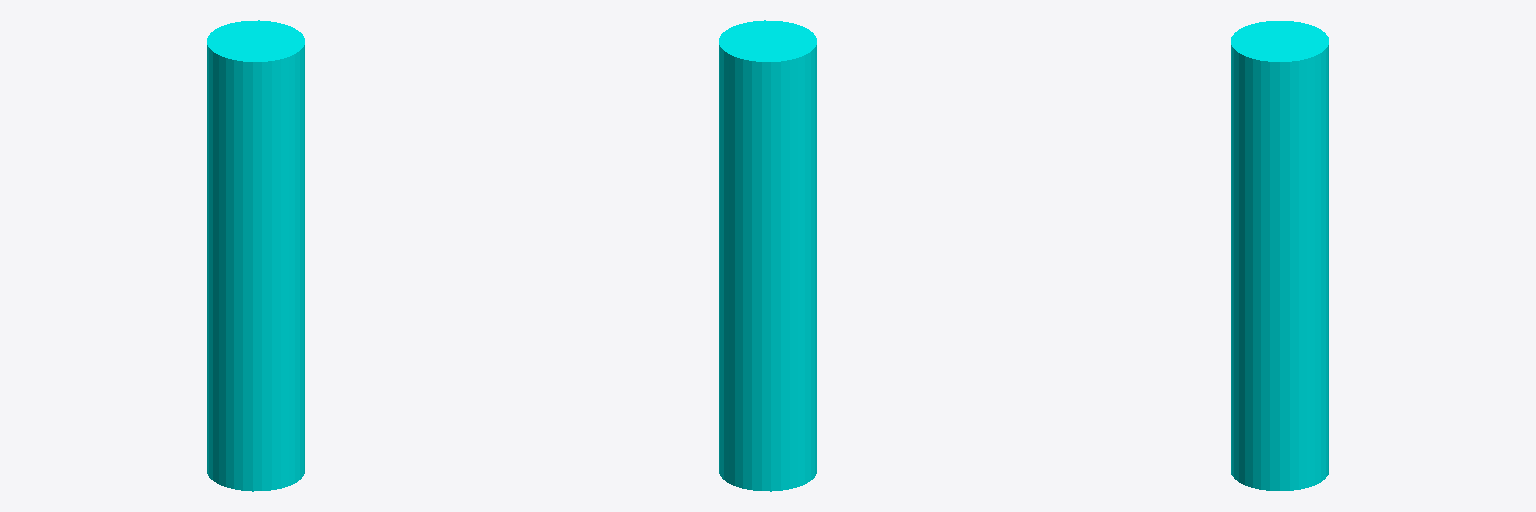
The robot description file, URDF, robot "spatula-base.urdf":
<?xml version="0.0" ?>
<robot name="spatula-base.urdf">
  <material name="DarkGrey">
    <color rgba="0.2 0.2 0.2 1.0"/>
  </material>
  <material name="LightGrey">
    <color rgba="0.8 0.8 0.8 1.0"/>
  </material>
  <material name="Blue">
    <color rgba="0.0 1.0 1.0 1.0"/>
  </material>

  <link name="baseLink">
    <contact>
      <lateral_friction value="1.0"/>
      <rolling_friction value="0.0001"/>
      <inertia_scaling value="3.0"/>
    </contact>
    <inertial>
      <origin rpy="0 0 0" xyz="0 0 0"/>
       <mass value=".1"/>
       <inertia ixx="1" ixy="0" ixz="0" iyy="1" iyz="0" izz="1"/>
    </inertial>
    <visual>
      <origin rpy="0 0 0" xyz="0 0 0"/>
      <geometry>
        <mesh filename="suction/base.obj" scale="0.001 0.001 0.001"/>
      </geometry>
      <material name="DarkGrey"/>
    </visual>
    <visual>
      <origin rpy="0 0 0" xyz="0 0 0.075"/>
      <geometry>
        <cylinder radius="0.012" length="0.11"/>
      </geometry>
      <material name="Blue"/>
    </visual>
    <collision>
      <origin rpy="0 0 0" xyz="0 0 0.075"/>
      <geometry>
        <cylinder radius="0.012" length="0.11"/>
      </geometry>
    </collision>
  </link>

  <link name="midLink">
    <contact>
      <lateral_friction value="1.0"/>
      <rolling_friction value="0.0001"/>
      <inertia_scaling value="3.0"/>
    </contact>
    <inertial>
      <origin rpy="0 0 0" xyz="0 0 0"/>
       <mass value=".1"/>
       <inertia ixx="1" ixy="0" ixz="0" iyy="1" iyz="0" izz="1"/>
    </inertial>
    <visual>
      <origin rpy="0 0 0" xyz="0 0 0.1075"/>
      <geometry>
        <cylinder radius="0.012" length="0.005"/>
      </geometry>
      <material name="Blue"/>
    </visual>
    <collision>
      <origin rpy="0 0 0" xyz="0 0 0.1075"/>
      <geometry>
        <cylinder radius="0.012" length="0.005"/>
      </geometry>
    </collision>
  </link>
  <joint name="baseLink-midLink" type="fixed">
    <origin rpy="0 0 0" xyz="0 0 0.025"/>
    <parent link="baseLink"/>
    <child link="midLink"/>
  </joint>


</robot>

--- Facts derived from the render (not from the file) ---
The picture shows the robot from 3 angles, left to right: view 1: azimuth 30°, elevation 25°; view 2: azimuth 150°, elevation 25°; view 3: azimuth 270°, elevation 25°; orthographic projection.
Model spatula-base.urdf with 2 links and 1 joints (1 fixed), rooted at baseLink, posed every joint at zero.
Links seen in each view (by area): view 1: baseLink, midLink; view 2: baseLink, midLink; view 3: baseLink, midLink.
Link boxes in pixels (<box>): baseLink: <box>207,63,304,491</box>; midLink: <box>207,20,304,80</box>; baseLink: <box>719,63,816,491</box>; midLink: <box>719,20,816,80</box>; baseLink: <box>1231,64,1328,490</box>; midLink: <box>1231,21,1328,80</box>.
Bounding box of the posed robot: 0.024 × 0.024 × 0.115 m (x, y, z).
Meshes: 1 distinct files referenced, 0 mesh visuals loaded (none loaded); not drawn: 1 (reference not matched to a file when rendering).